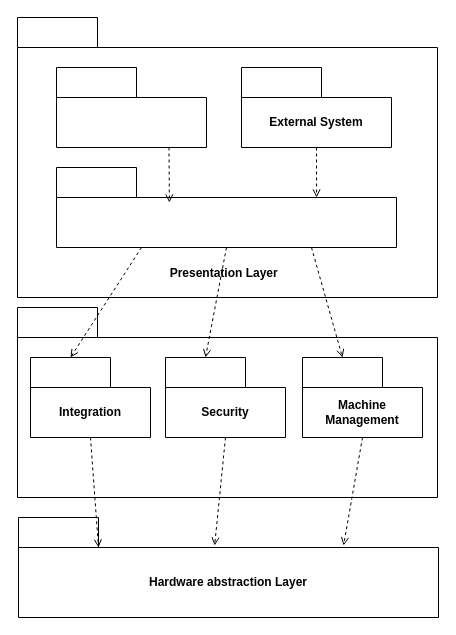
The diagram is 456 pixels wide and 635 high, and some of its shapes have lost their labels. The box of each missing label's shape, as (x1, y1, x2, y2) in pixels:
Application Layer: (16, 306, 438, 498)
Controller: (56, 166, 396, 248)
UI: (56, 66, 206, 148)
